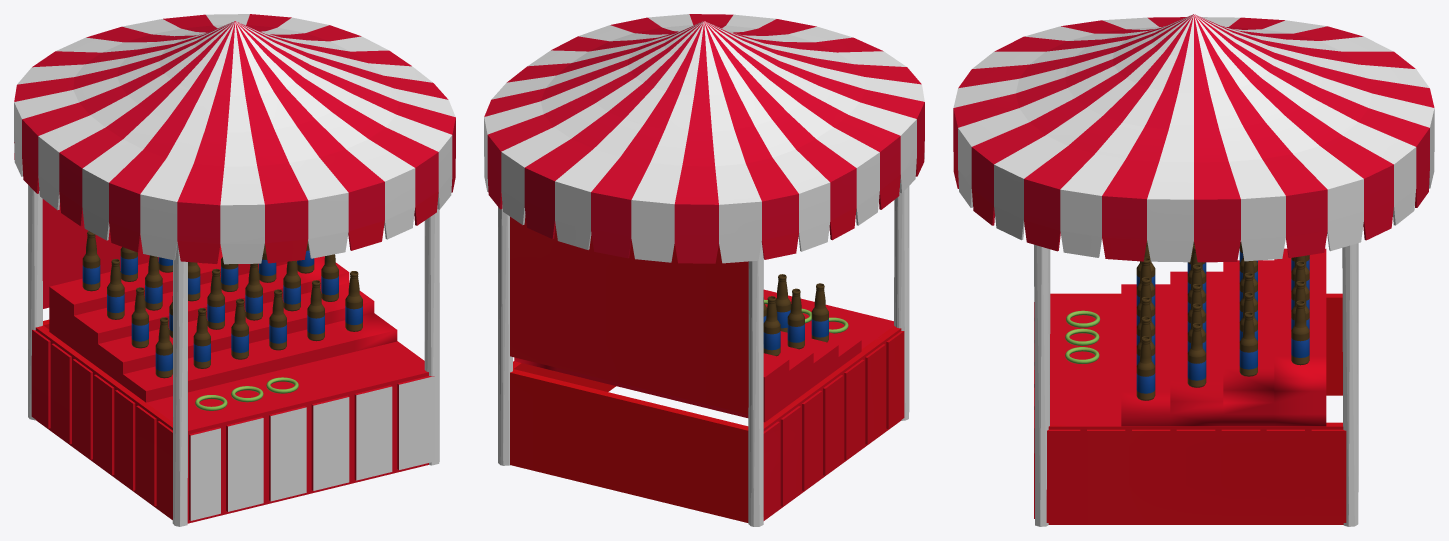
Rendered from ring toss.fbx.
3 renders of one model, left to right at view 1: azimuth 30°, elevation 25°; view 2: azimuth 150°, elevation 25°; view 3: azimuth 270°, elevation 25°, orthographic. The views are drawn at different scales.
Parts seen in each view (by area): view 1: tent, steps, side L, bottle.001, bottle.002, pole2, back booth, bottle.003, pole1, pole4, bottle.004; view 2: tent, back booth, back bottom, side L, steps, pole4, pole3, pole2, bottle.001, bottle.002, side R, bottle.003; view 3: tent, steps, side R, pole3, pole1, bottle.001, bottle.002, bottle.003, side L, bottle.004.
Part boxes in pixels (x1,y1,x2,y2): tent: [14, 14, 455, 264]; steps: [49, 245, 434, 523]; side L: [31, 325, 172, 519]; bottle.001: [155, 271, 362, 378]; bottle.002: [131, 254, 338, 348]; pole2: [172, 243, 187, 526]; back booth: [42, 199, 220, 308]; bottle.003: [107, 241, 314, 319]; pole1: [424, 205, 439, 465]; pole4: [28, 185, 42, 420]; bottle.004: [82, 231, 202, 291]; tent: [484, 14, 924, 263]; back booth: [510, 214, 748, 414]; back bottom: [510, 369, 748, 522]; side L: [763, 326, 904, 520]; steps: [514, 289, 893, 422]; pole4: [748, 242, 763, 526]; pole3: [498, 205, 512, 465]; pole2: [894, 186, 909, 420]; bottle.001: [775, 274, 828, 342]; bottle.002: [763, 288, 804, 349]; side R: [513, 361, 615, 391]; bottle.003: [763, 296, 780, 356]; tent: [953, 14, 1434, 262]; steps: [1034, 248, 1326, 518]; side R: [1046, 422, 1346, 524]; pole3: [1342, 243, 1358, 526]; pole1: [1034, 244, 1050, 526]; bottle.001: [1136, 241, 1155, 400]; bottle.002: [1187, 242, 1206, 387]; bottle.003: [1239, 242, 1257, 376]; side L: [1050, 293, 1342, 395]; bottle.004: [1291, 255, 1309, 365].
Size of the model in its own units: 5.37 by 6.1 by 5.98.
